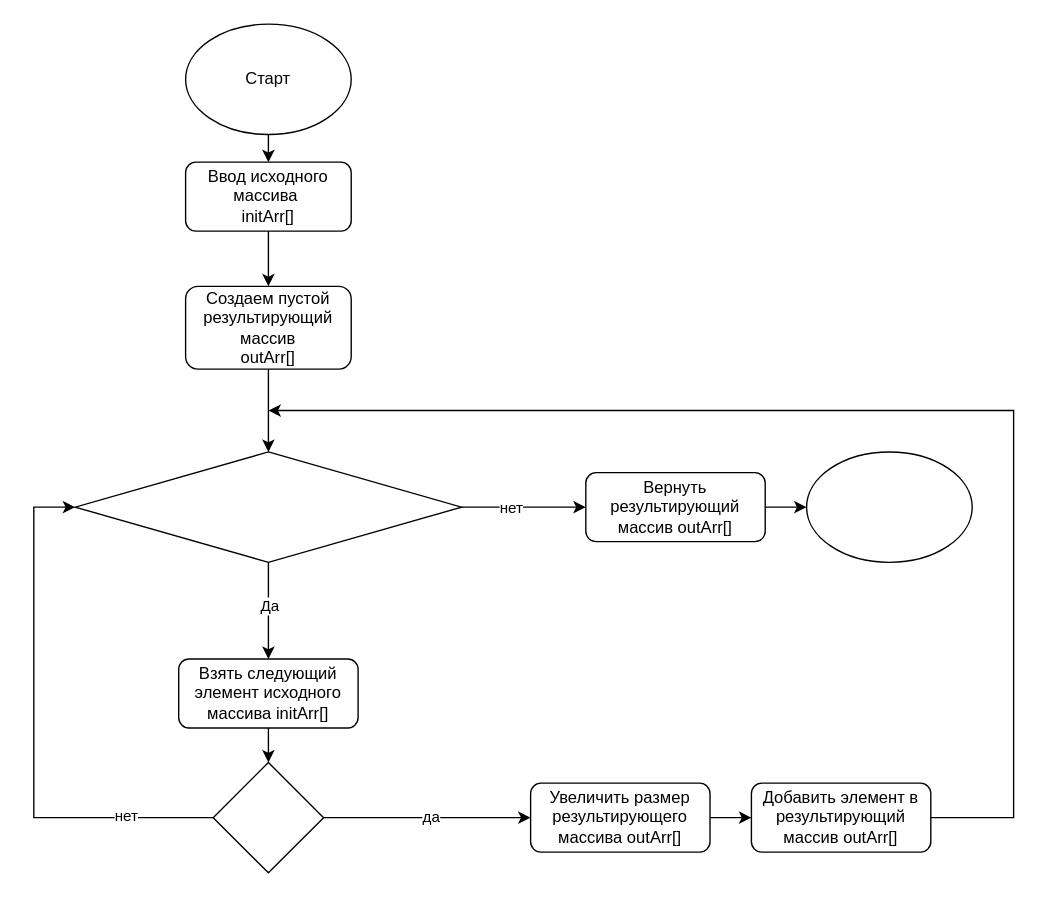
The diagram is 1049 pixels wide and 897 high, and some of its shapes have lost their labels. Here are the shapes that lost their labels. From the top down, the centre of each, then its label:
the point at 268,506: В исходном массиве initArr[] ещё остались элементы
the point at 888,506: Стоп
the point at 268,817: Длина <= 3
